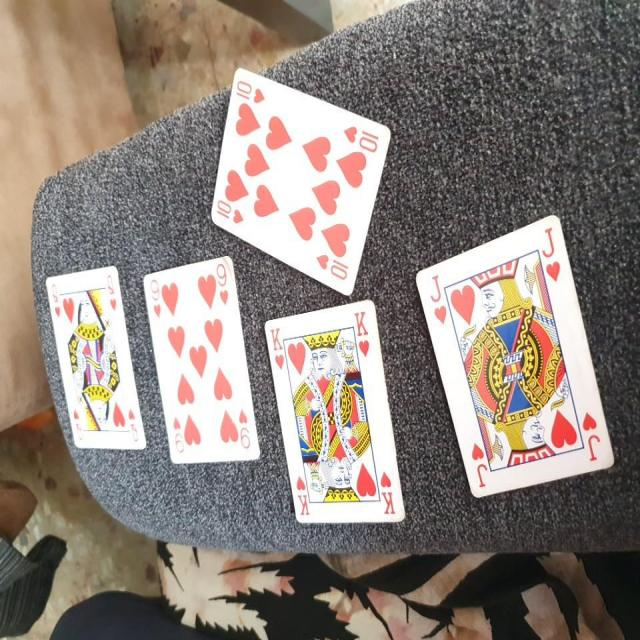10 Hearts: (213, 64, 396, 287)
9 Hearts: (141, 247, 264, 480)
J Hearts: (412, 205, 622, 506)
K Hearts: (264, 296, 408, 535)
Q Hearts: (47, 260, 142, 460)
